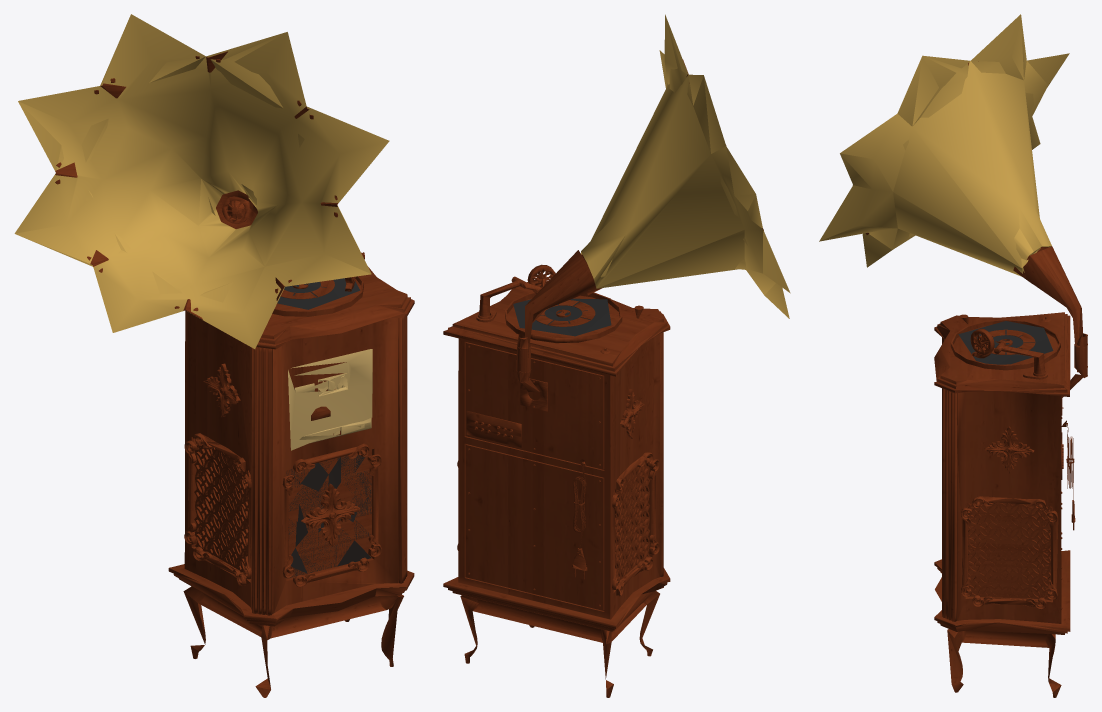
The model's file is gramophone.glb.
3 views of the same model, side by side, from view 1: azimuth 30°, elevation 25°; view 2: azimuth 150°, elevation 25°; view 3: azimuth 270°, elevation 25° (orthographic). The views are drawn at different scales.
Visible parts, largest first — view 1: Walther_Gramophone_001; view 2: Walther_Gramophone_001; view 3: Walther_Gramophone_001.
Boxes of the visible parts, x1=… form: Walther_Gramophone_001: x1=14, y1=14, x2=414, y2=697; Walther_Gramophone_001: x1=443, y1=14, x2=790, y2=697; Walther_Gramophone_001: x1=819, y1=14, x2=1087, y2=697.
Bounding box in the file's own units: 1.03 × 1.87 × 0.7785.
5 materials, 1 textured.
